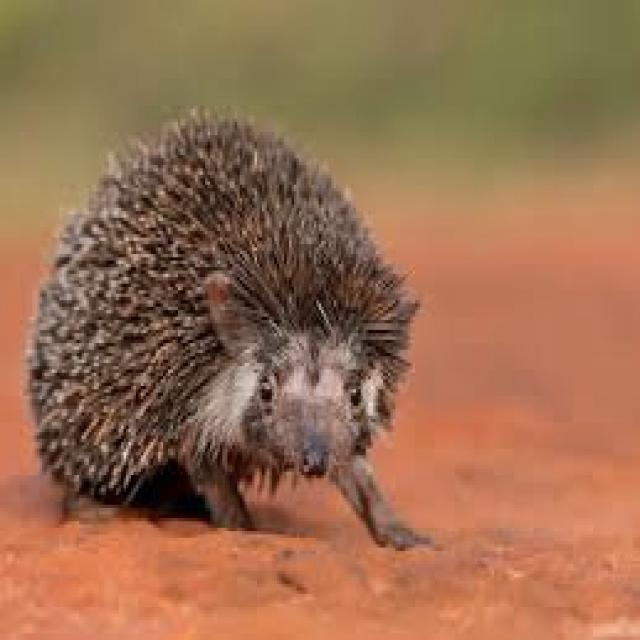hedgehog: (27, 112, 425, 541)
